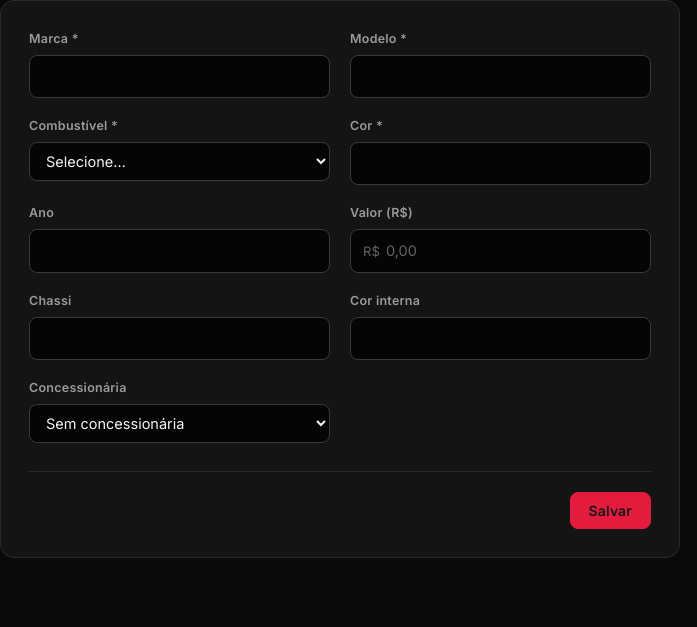
Test: VehicleForm › shows validation errors and blocks submit when required fields are empty
What coordinates should you click on to do the following:
click the button "Salvar"
I would click on:
 (610, 510)
Its box is 570,492 -> 651,529.
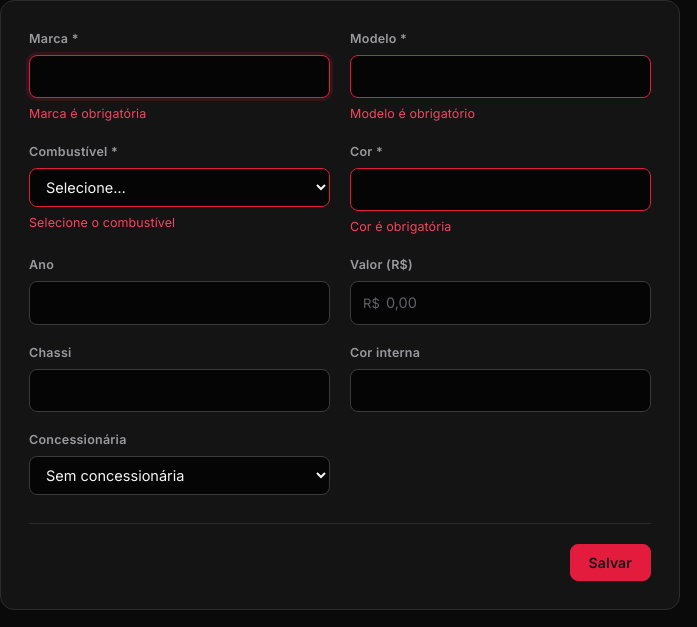
Check: the text "Marca é obrigatória" is shown, box 29,106 -> 146,121
Check: the text "Modelo é obrigatório" is shown, box 350,106 -> 475,121
Check: the text "Selecione o combustível" is shown, box 29,215 -> 175,230
